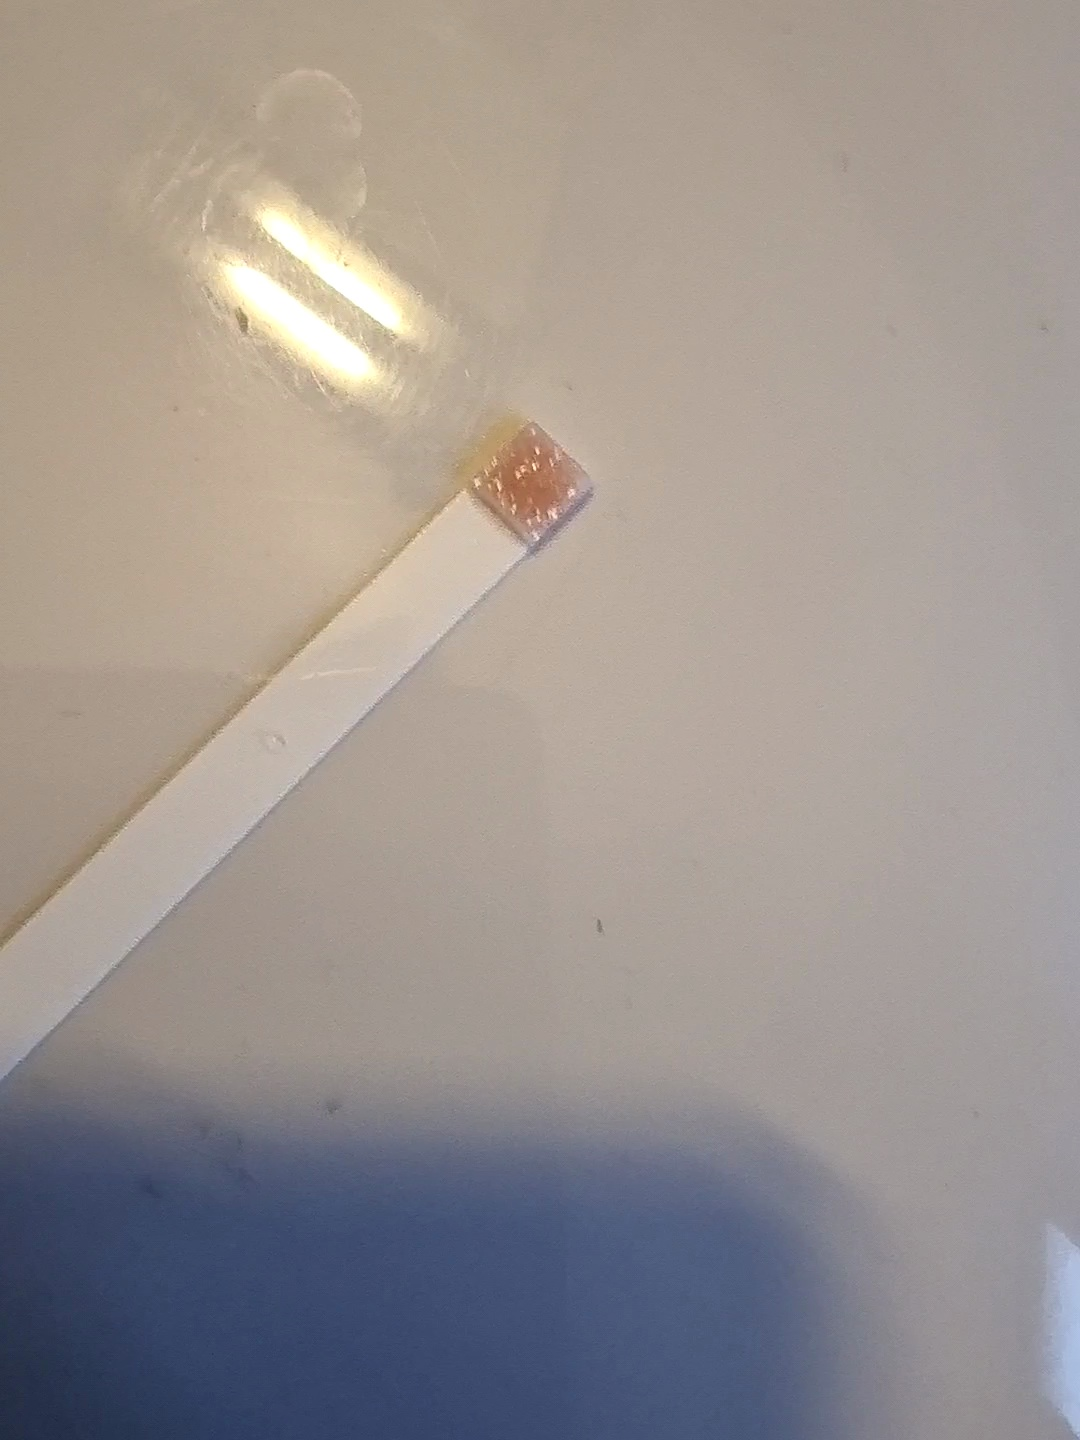keto-tip: (459, 417, 604, 561)
